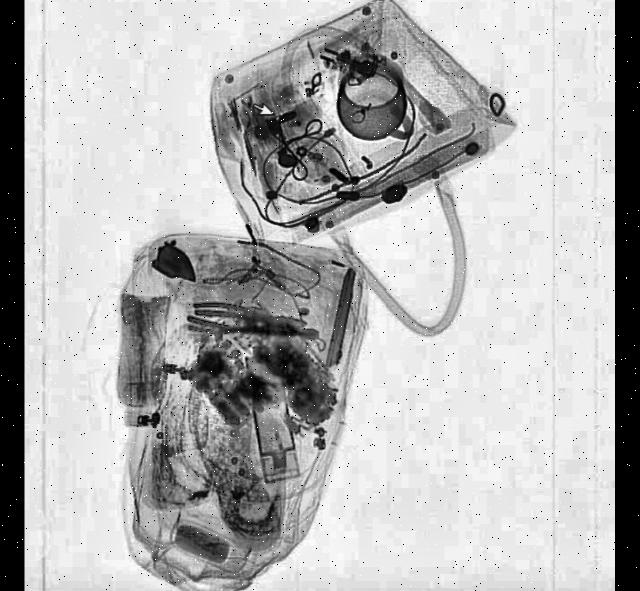Pliers: (186, 304, 321, 346)
